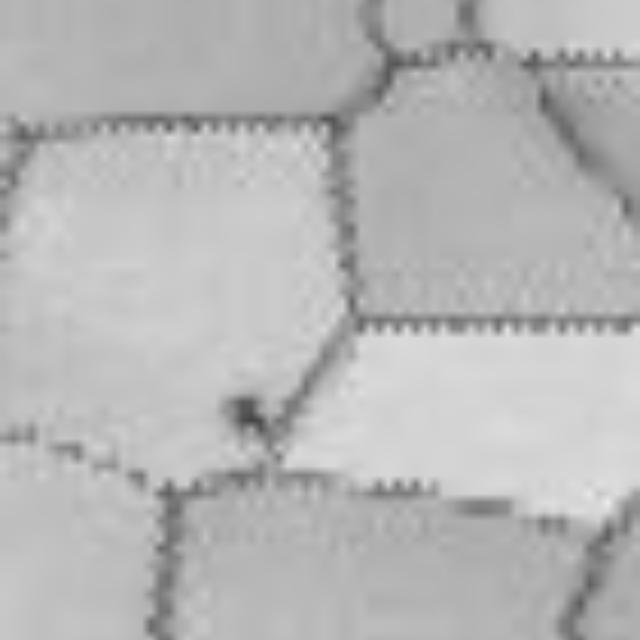good_void: (212, 386, 293, 453)
